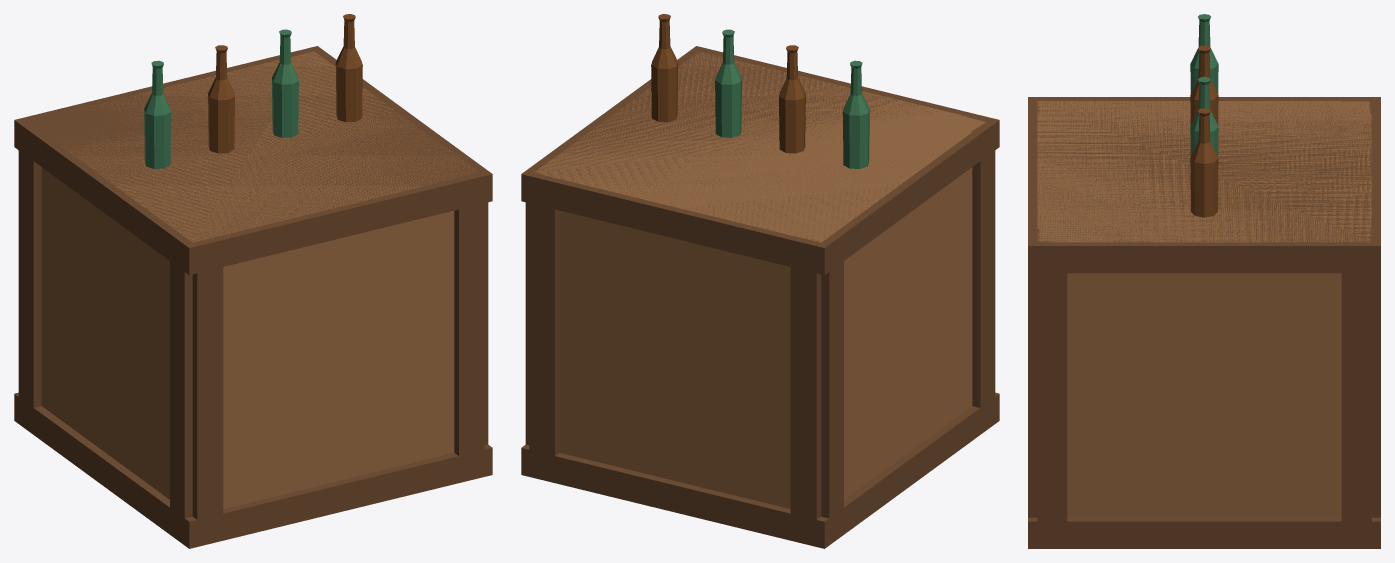
File: SM_BottleCrate.fbx
The picture shows the model from 3 angles, left to right: view 1: azimuth 30°, elevation 25°; view 2: azimuth 150°, elevation 25°; view 3: azimuth 270°, elevation 25°; orthographic projection.
Parts seen in each view (by area): view 1: BottleCrate; view 2: BottleCrate; view 3: BottleCrate.
Boxes of the visible parts, bbox=[...] form: BottleCrate: bbox=[14, 14, 492, 548]; BottleCrate: bbox=[521, 14, 999, 548]; BottleCrate: bbox=[1028, 14, 1380, 548].
Size of the model in its own units: 95 by 95 by 122.
